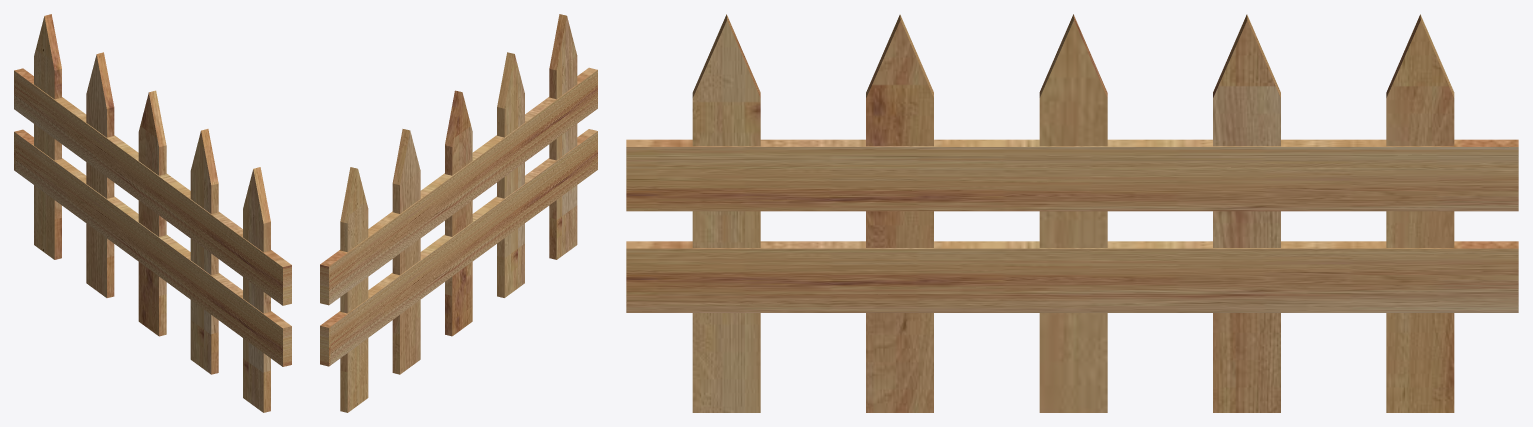
Rendered from fence.dae.
The picture shows the model from 3 angles, left to right: view 1: azimuth 30°, elevation 25°; view 2: azimuth 150°, elevation 25°; view 3: azimuth 270°, elevation 25°; orthographic projection. The views are drawn at different scales.
Parts seen in each view (by area): view 1: Plane, Cube; view 2: Plane, Cube; view 3: Plane, Cube.
Boxes of the visible parts, x1,y1,x2,y2 form: Plane: [14, 68, 291, 366]; Cube: [34, 14, 270, 412]; Plane: [320, 67, 597, 366]; Cube: [340, 14, 577, 412]; Plane: [626, 139, 1518, 312]; Cube: [692, 14, 1454, 412].
Size of the model in its own units: 0.1 by 2.5 by 5.15.
Materials: 1 (1 with a texture image).
